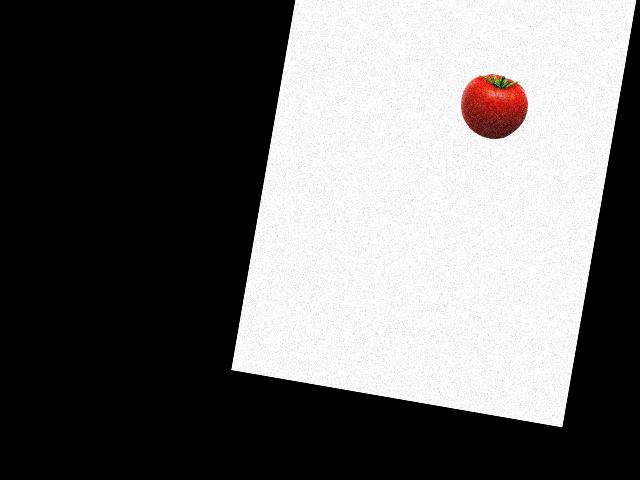tomato: (463, 70, 532, 143)
